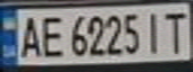2: (84, 11, 109, 57), (103, 10, 127, 56)
5: (121, 9, 145, 56)
6: (66, 11, 90, 57)
A: (15, 12, 45, 60)
E: (36, 11, 66, 58)
I: (142, 8, 166, 55)
T: (160, 7, 190, 54)
